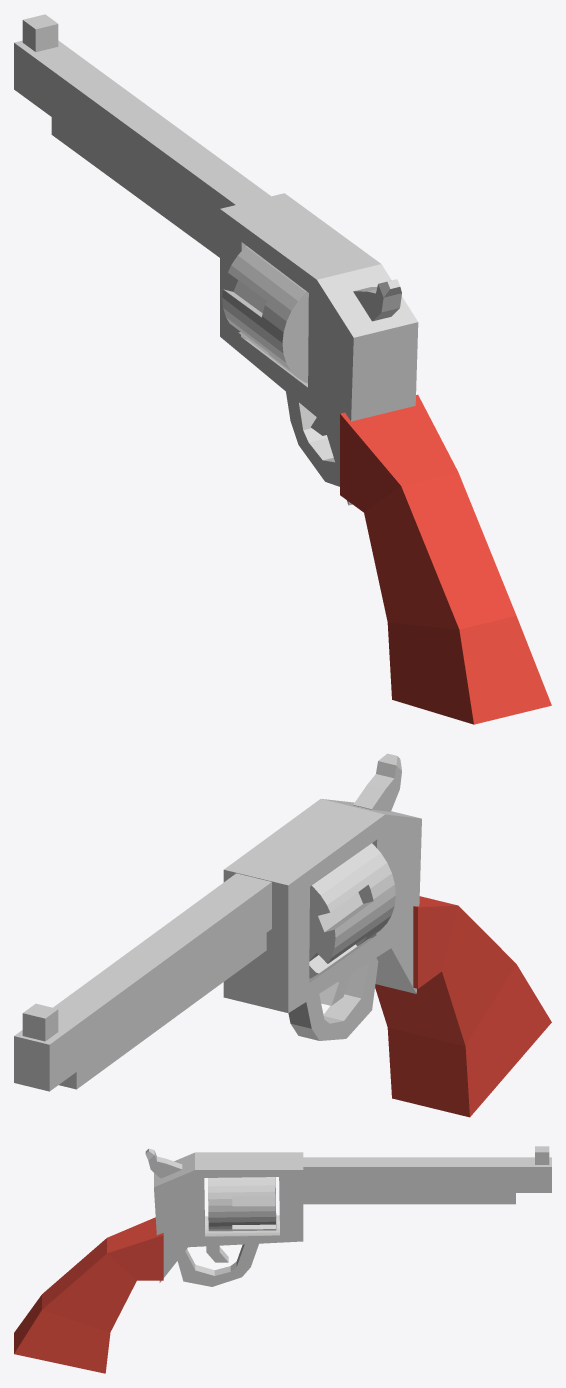
The model's file is revolver.fbx.
3 renders of one model, top to bottom at view 1: azimuth 30°, elevation 25°; view 2: azimuth 150°, elevation 25°; view 3: azimuth 270°, elevation 25°, orthographic. The views are drawn at different scales.
Visible parts, largest first — view 1: Gun; view 2: Gun; view 3: Gun.
Boxes of the visible parts, x1,y1,x2,y2 form: Gun: (14, 14, 551, 724); Gun: (14, 753, 551, 1117); Gun: (14, 1146, 551, 1373).
Size of the model in its own units: 79.4 by 278 by 634.
